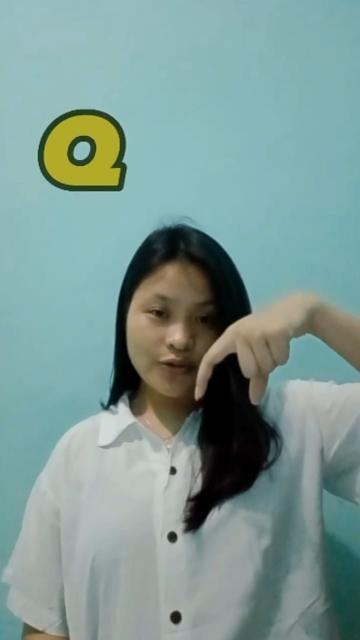Q: (191, 296, 321, 406)
